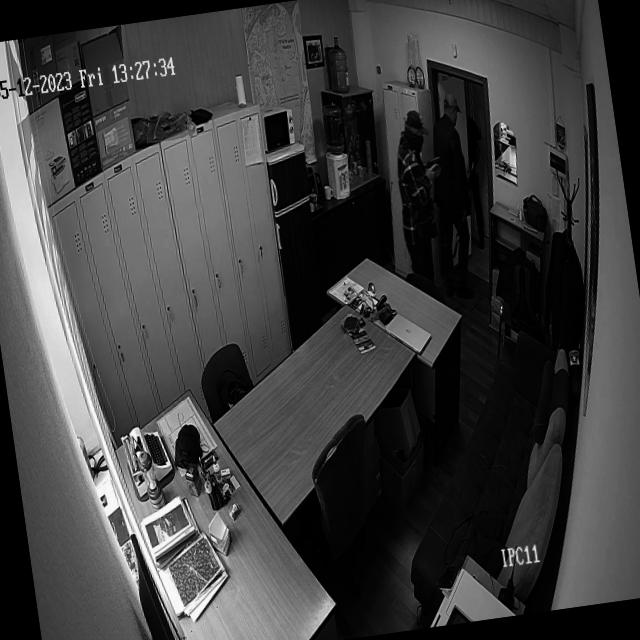gun: (424, 154, 444, 176)
person: (424, 89, 484, 300)
person with a gun: (385, 104, 457, 268)
